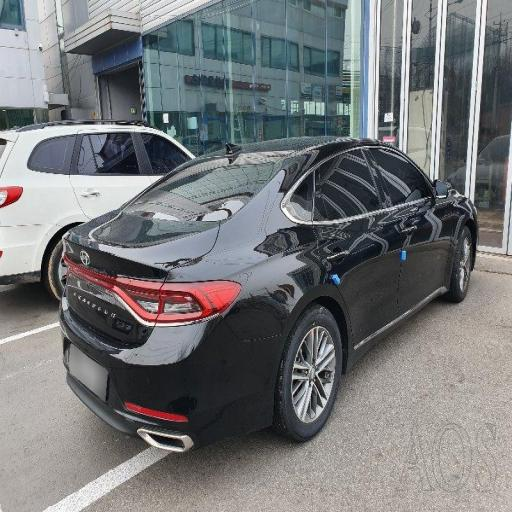scratch: (134, 142, 340, 240)
